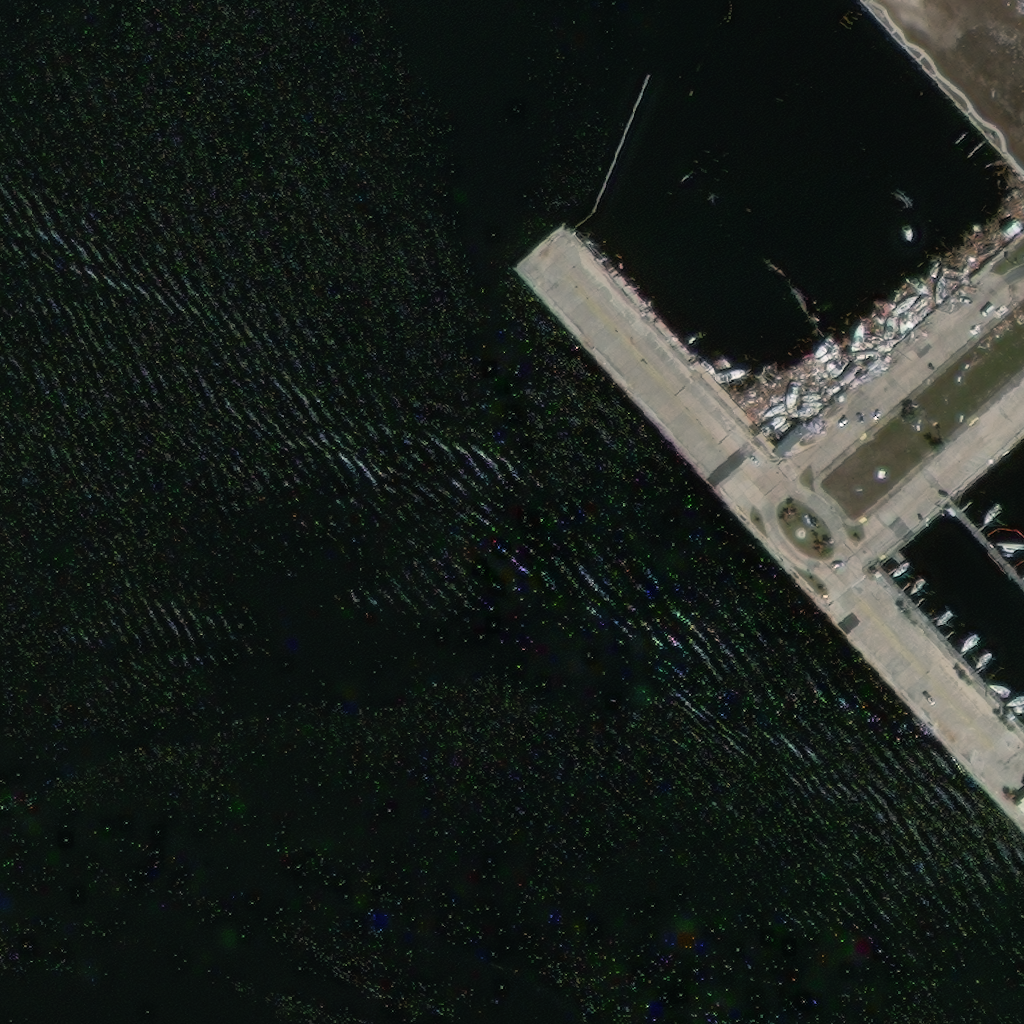unclassified: (1008, 785, 1023, 819)
